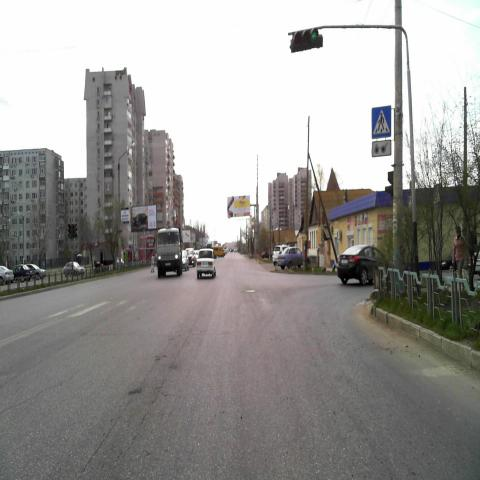8_15: (372, 139, 392, 157)
